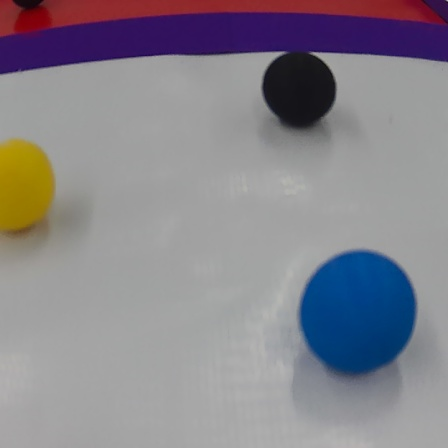black: (264, 50, 337, 127)
blue: (298, 250, 420, 375)
red_aim: (0, 0, 448, 80)
yellow: (0, 133, 65, 248)
